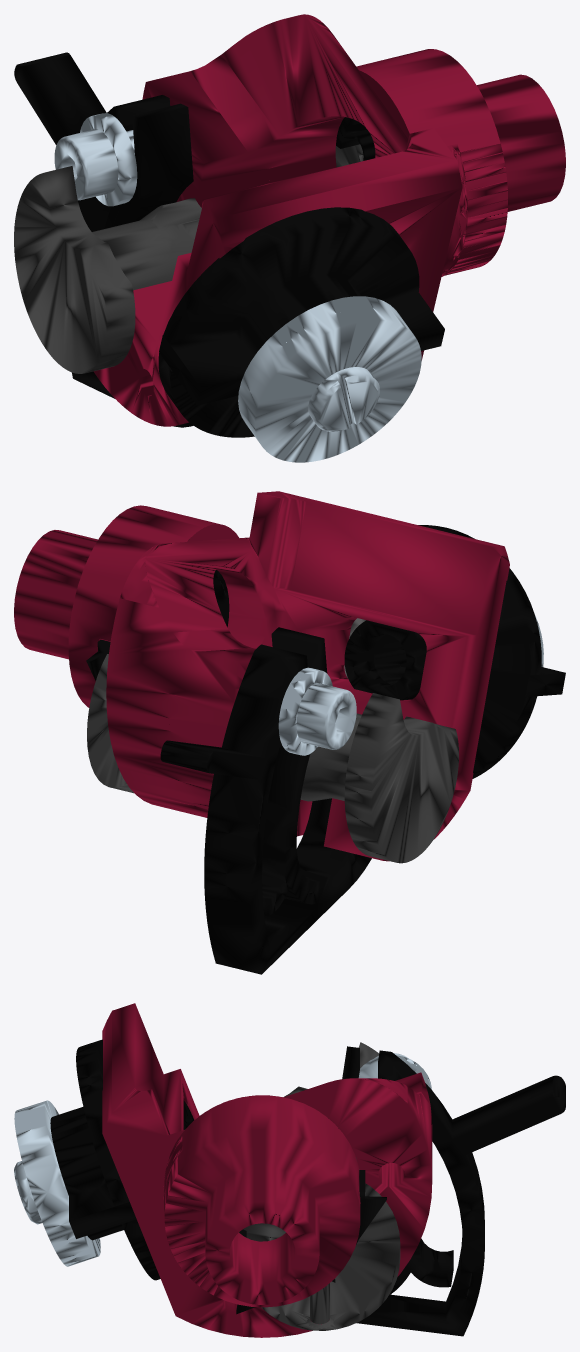
The model's file is condyle_left_parts_1.obj.
The picture shows the model from 3 angles, top to bottom: view 1: azimuth 30°, elevation 25°; view 2: azimuth 150°, elevation 25°; view 3: azimuth 270°, elevation 25°; orthographic projection. The views are drawn at different scales.
Size of the model in its own units: 54.47 by 42.43 by 67.37.
